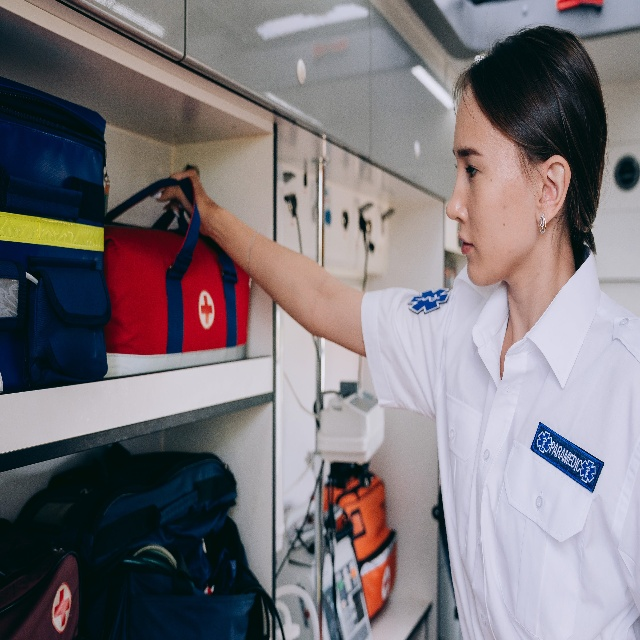Sin_guantes: (156, 162, 212, 238)
